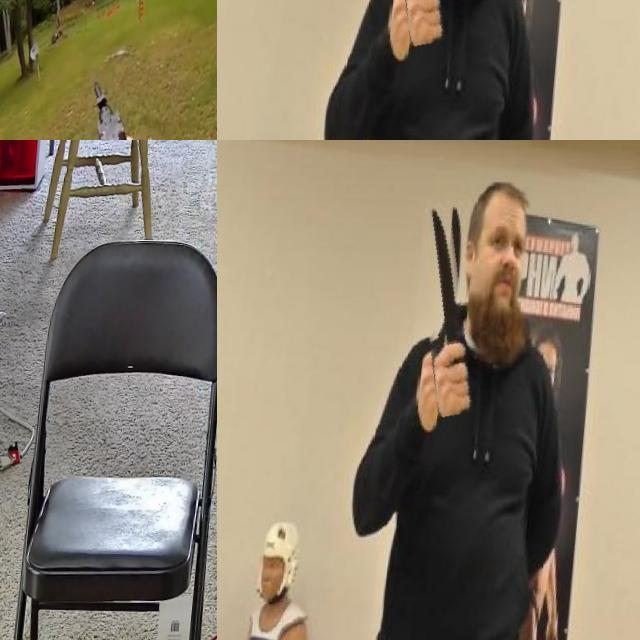-: (412, 198, 486, 416), (384, 0, 457, 108)
gun-knife-thesis - v11 Yolov5 augmented: (79, 58, 187, 140)
